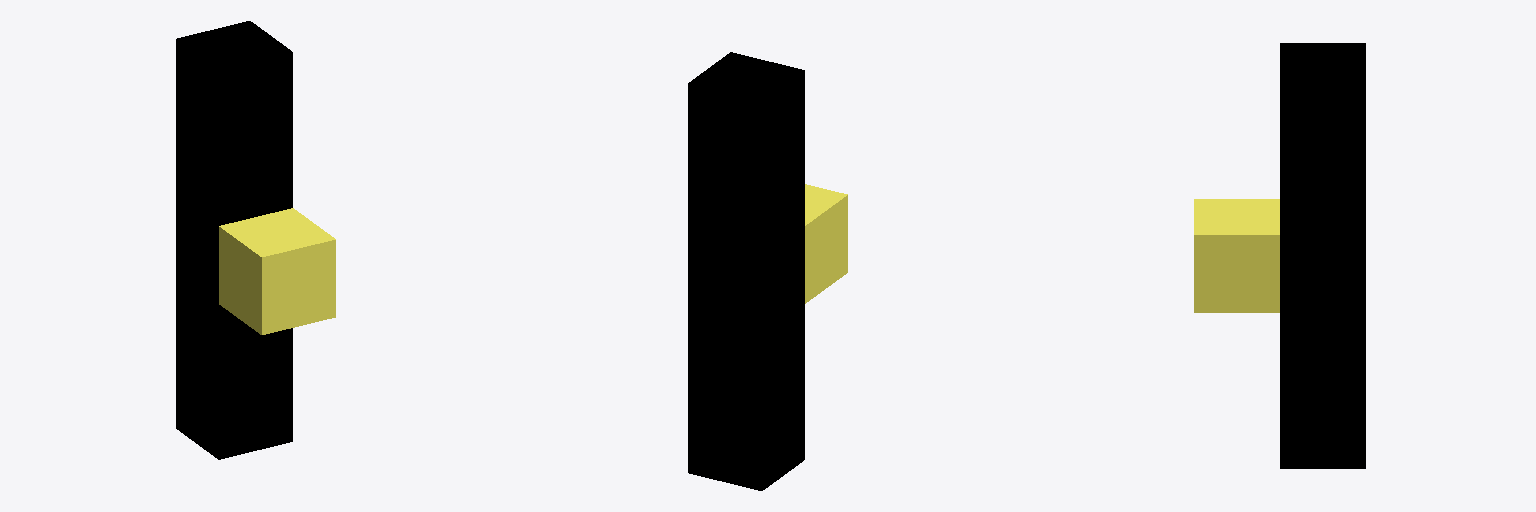
The picture shows the model from 3 angles: view 1: azimuth 30°, elevation 25°; view 2: azimuth 150°, elevation 25°; view 3: azimuth 270°, elevation 25°; orthographic projection.
Bounding box in the file's own units: 4 × 20 × 8.
1 materials, 1 textured.